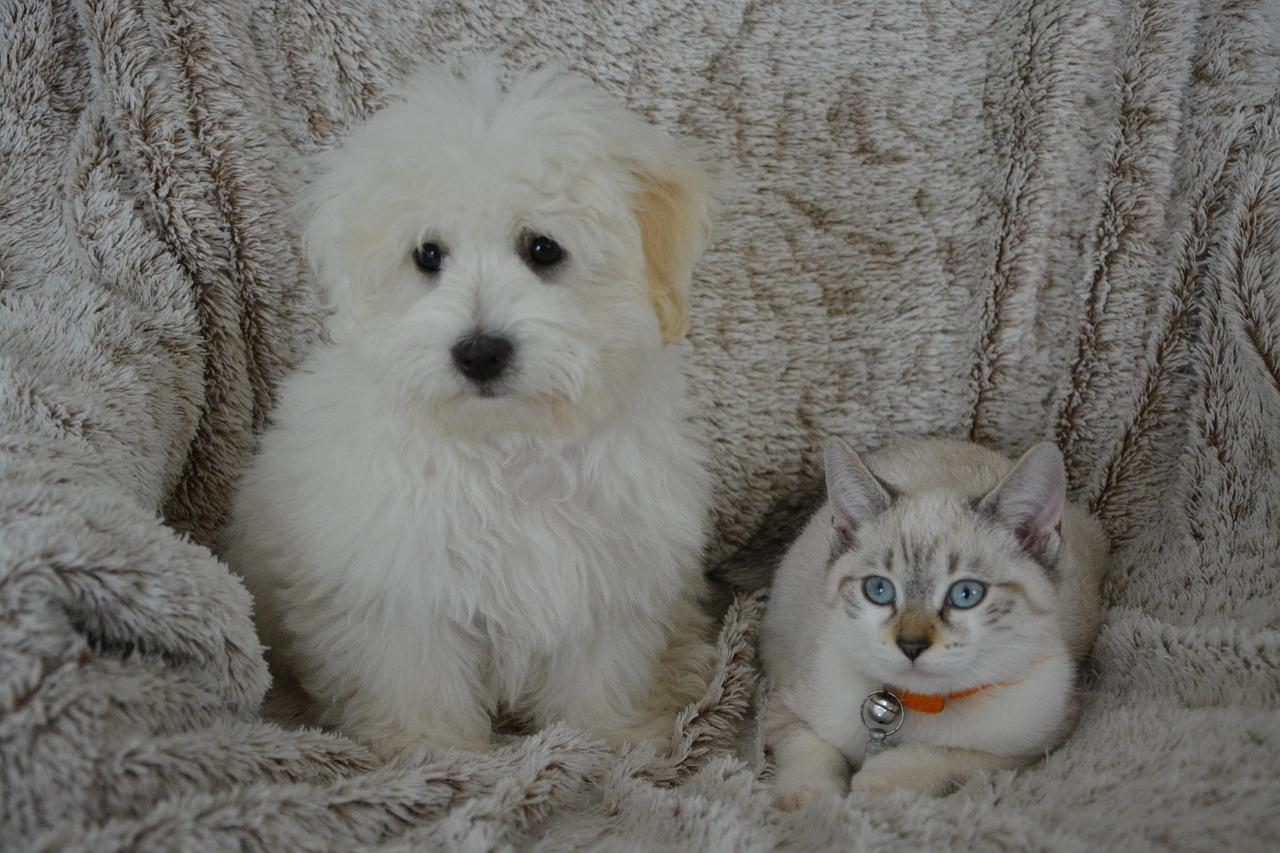cat: (781, 407, 1120, 791)
dog: (131, 36, 780, 800)
